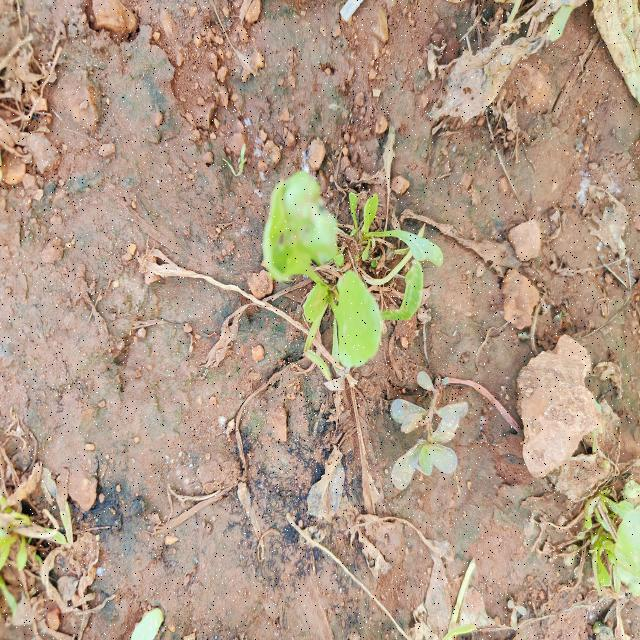leaves: (244, 165, 345, 312), (319, 237, 394, 370), (297, 272, 331, 321)
